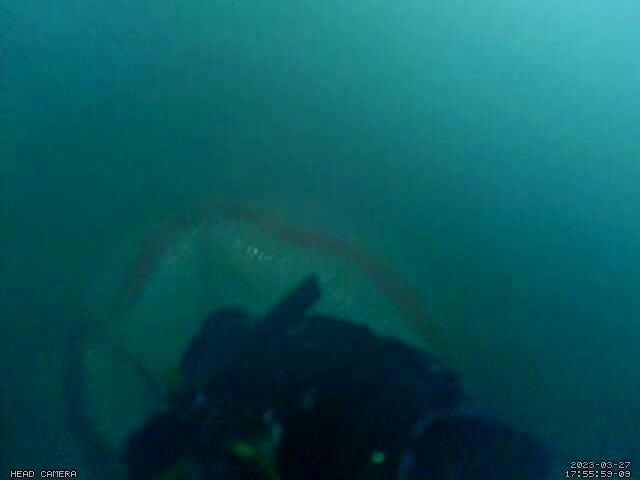head: (61, 202, 452, 480)
